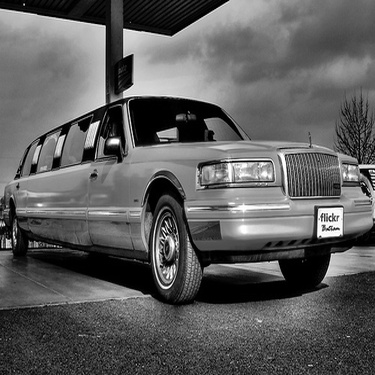car: (6, 91, 371, 301), (348, 159, 372, 235), (1, 226, 38, 254)
